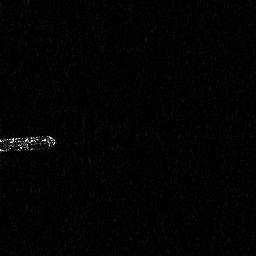ship: (1, 131, 61, 156)
